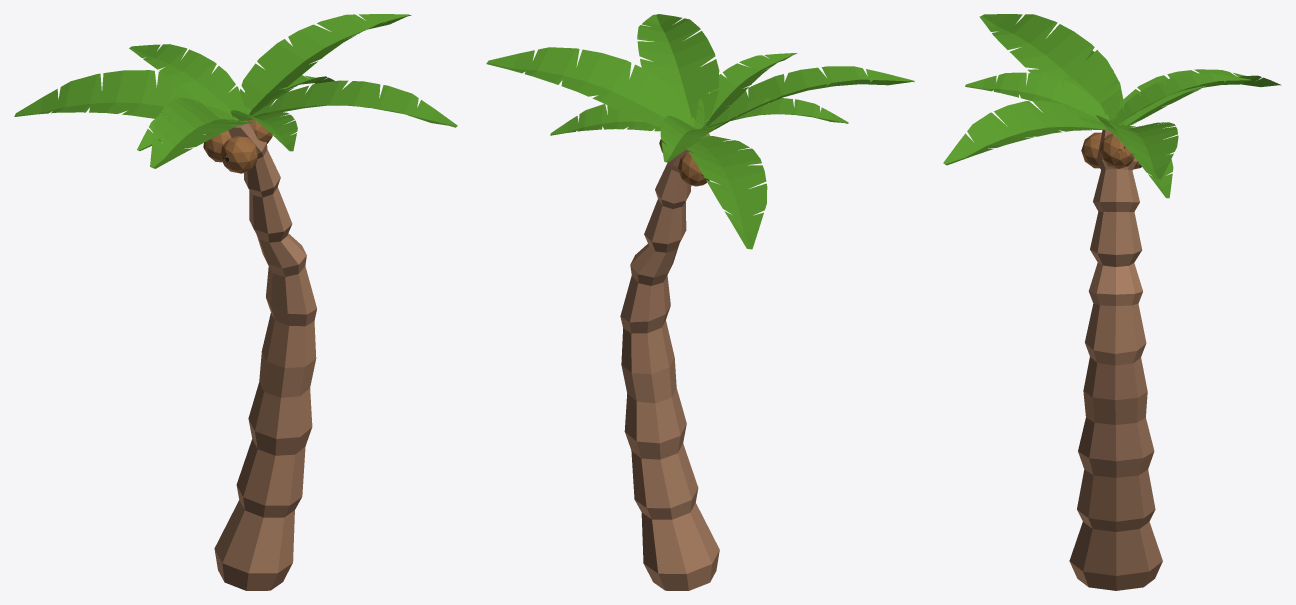
The model's file is Palmtree.fbx.
3 renders of one model, left to right at view 1: azimuth 30°, elevation 25°; view 2: azimuth 150°, elevation 25°; view 3: azimuth 270°, elevation 25°, orthographic. The views are drawn at different scales.
Parts seen in each view (by area): view 1: Holes; view 2: Holes; view 3: Holes.
Part boxes in pixels (x1,y1,x2,y2): Holes: (14,14,457,590); Holes: (486,14,914,590); Holes: (943,14,1281,590).
Bounding box in the file's own units: 1010 × 1422 × 872.
